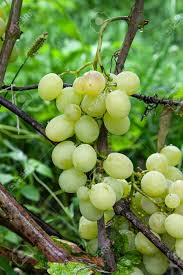grapes: (28, 64, 127, 236), (139, 140, 183, 255)
